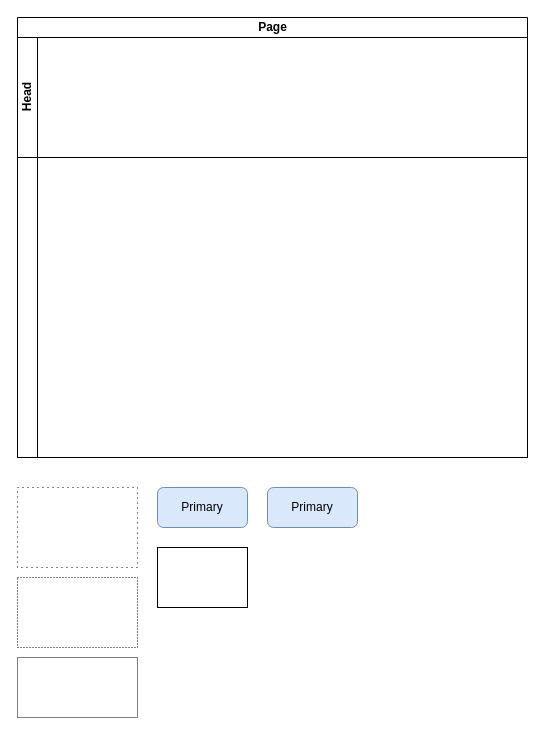
The diagram is 545 pixels wide and 735 high, and some of its shapes have lost their labels. Each missing label, with the box of its shape:
Body: (16, 156, 528, 458)
Text: (156, 546, 248, 608)
